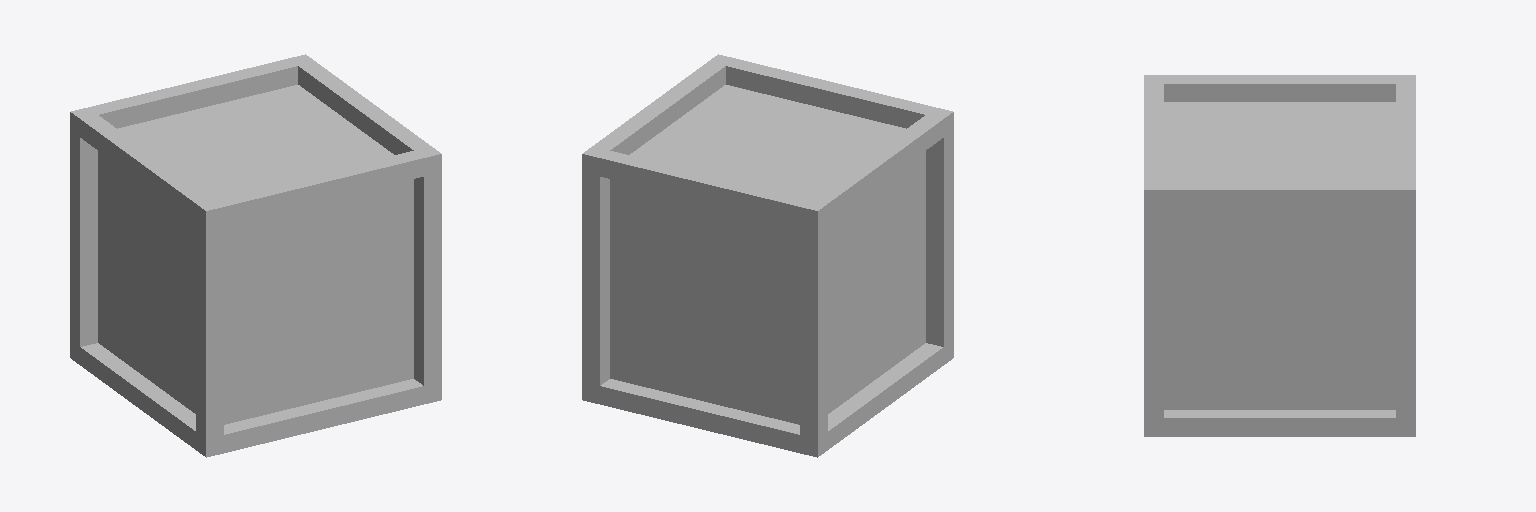
File: Tank.obj
The picture shows the model from 3 angles: view 1: azimuth 30°, elevation 25°; view 2: azimuth 150°, elevation 25°; view 3: azimuth 270°, elevation 25°; orthographic projection.
Visible parts, largest first — view 1: Glass_Cube.004, Holder_Cube.003; view 2: Glass_Cube.004, Holder_Cube.003; view 3: Glass_Cube.004, Holder_Cube.003.
Boxes of the visible parts, x1,y1,x2,y2 form: Glass_Cube.004: [98, 85, 413, 424]; Holder_Cube.003: [70, 54, 441, 457]; Glass_Cube.004: [610, 85, 925, 424]; Holder_Cube.003: [582, 54, 953, 457]; Glass_Cube.004: [1164, 102, 1395, 409]; Holder_Cube.003: [1144, 75, 1415, 436].
Size of the model in its own units: 1 by 1 by 1.